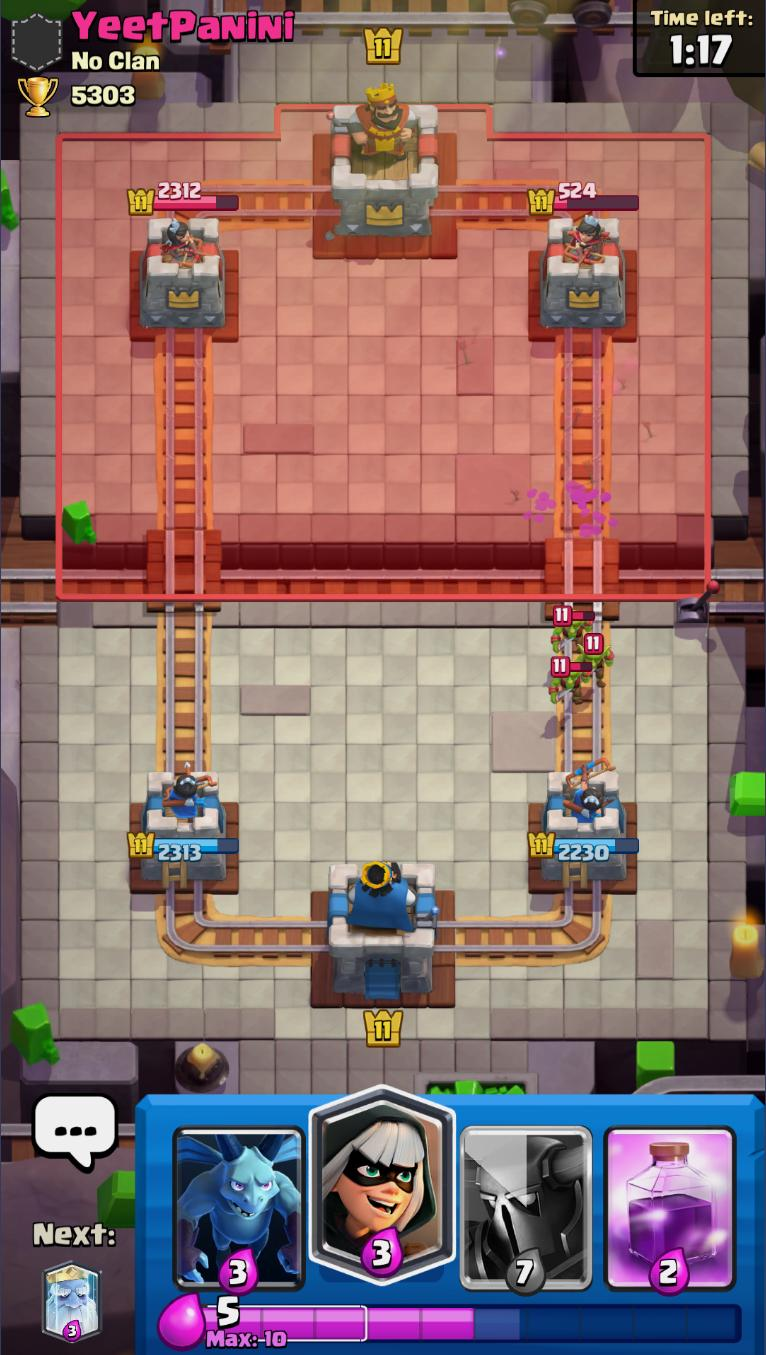BanditDeck: (311, 1095, 455, 1296)
Elixir: (203, 1295, 744, 1350)
EnemyTower: (533, 214, 631, 331), (136, 214, 227, 331)
Goblin: (548, 654, 591, 709), (550, 606, 596, 653)
KingTower: (326, 80, 443, 243)
MinionsDeck: (167, 1095, 310, 1296)
MyBarbarian: (576, 633, 616, 689)
MyKingTower: (326, 858, 440, 1000)
MyPrincessTower: (126, 768, 240, 886), (528, 770, 640, 886)
MyPrincessTowerHP: (126, 830, 239, 862), (527, 832, 640, 862)
PekkaDeck: (456, 1094, 598, 1295)
PrincessTower: (150, 214, 205, 270), (552, 213, 607, 267)
RageDeck: (598, 1094, 738, 1296)
RoyaleGhostNext: (41, 1264, 103, 1343)
TowerPrincessHP: (527, 182, 640, 216), (127, 182, 240, 216)
